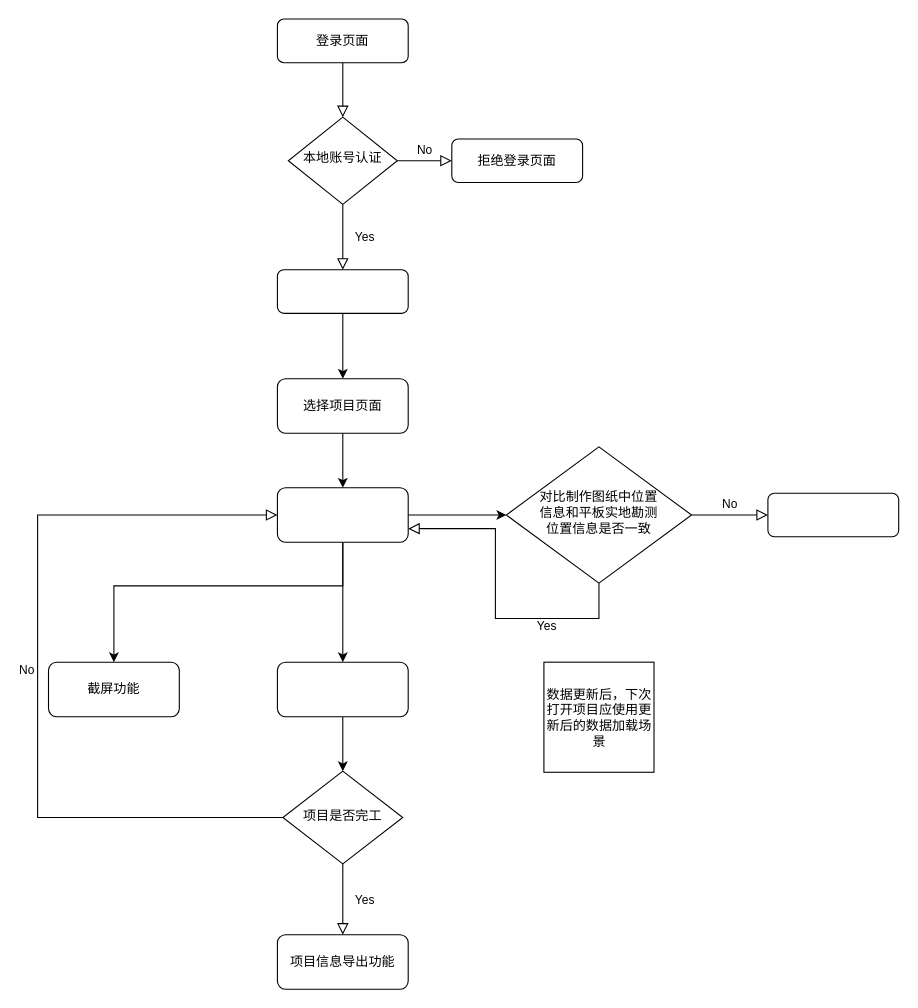
The diagram is 918 pixels wide and 1008 high, and some of its shapes have lost their labels. The shapes that lost their labels are listed below. From the top down, each one's centre as x and y in pixels, then its label:
At point (342, 291): "勘探笔记".
At point (342, 514): "项目漫游功能".
At point (833, 514): "校准信息".
At point (342, 689): "勘探笔记功能".
